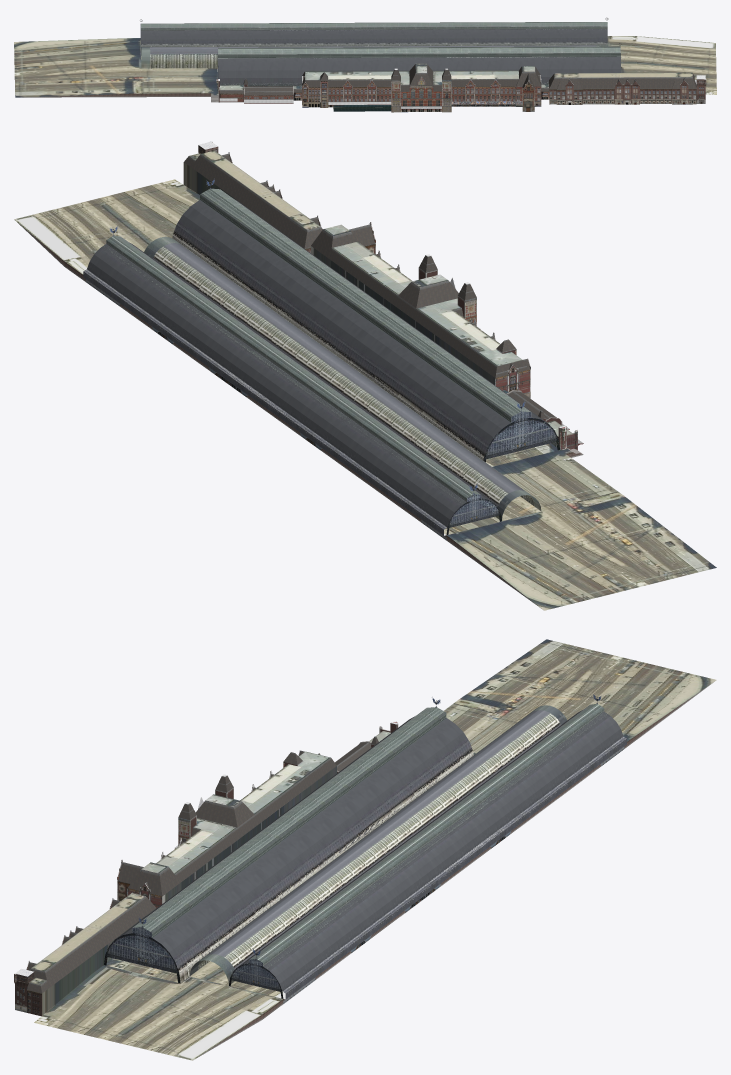
Rendered from amsterdamcs.glb.
The picture shows the model from 3 angles, top to bottom: view 1: azimuth 30°, elevation 25°; view 2: azimuth 150°, elevation 25°; view 3: azimuth 270°, elevation 25°; orthographic projection. The views are drawn at different scales.
Visible parts, largest first — view 1: SketchUp.013, SketchUp, SketchUp.002, SketchUp.007, SketchUp.008, SketchUp.024, SketchUp.018, SketchUp.075, SketchUp.080, SketchUp.067, SketchUp.028, SketchUp.131 (+21 smaller); view 2: SketchUp.013, SketchUp, SketchUp.005, SketchUp.007, SketchUp.008, SketchUp.018, SketchUp.024, SketchUp.159, SketchUp.067, SketchUp.011, SketchUp.161, SketchUp.131 (+2 smaller); view 3: SketchUp.013, SketchUp, SketchUp.005, SketchUp.007, SketchUp.008, SketchUp.018, SketchUp.024, SketchUp.159, SketchUp.012, SketchUp.161, SketchUp.067, SketchUp.131 (+3 smaller).
Part boxes in pixels (x1,y1,x2,y2): SketchUp.013: (14,36,716,97); SketchUp: (141,29,607,68); SketchUp.002: (218,56,620,86); SketchUp.007: (218,46,620,57); SketchUp.008: (141,22,607,30); SketchUp.024: (549,73,696,89); SketchUp.018: (302,64,541,88); SketchUp.075: (451,78,515,101); SketchUp.080: (328,79,391,101); SketchUp.067: (305,71,409,84); SketchUp.028: (401,77,441,106); SketchUp.131: (433,70,518,84); SketchUp.013: (14,162,716,610); SketchUp: (129,200,533,519); SketchUp.005: (87,244,466,527); SketchUp.007: (200,188,530,422); SketchUp.008: (106,236,480,501); SketchUp.018: (311,224,530,377); SketchUp.024: (184,153,322,248); SketchUp.159: (83,271,443,535); SketchUp.067: (416,298,522,366); SketchUp.011: (483,411,559,462); SketchUp.161: (84,269,446,529); SketchUp.131: (332,241,412,295); SketchUp.013: (34,639,716,1060); SketchUp: (152,710,582,983); SketchUp.005: (263,711,623,990); SketchUp.007: (132,707,446,937); SketchUp.008: (249,704,604,966); SketchUp.018: (118,750,336,896); SketchUp.024: (27,896,155,993); SketchUp.159: (285,739,626,999); SketchUp.012: (104,927,180,983); SketchUp.161: (282,736,626,993); SketchUp.067: (240,751,330,814); SketchUp.131: (156,818,236,874).
Bounding box in the file's own units: 510 × 35.83 × 359.
Materials: 44 (40 with a texture image).
